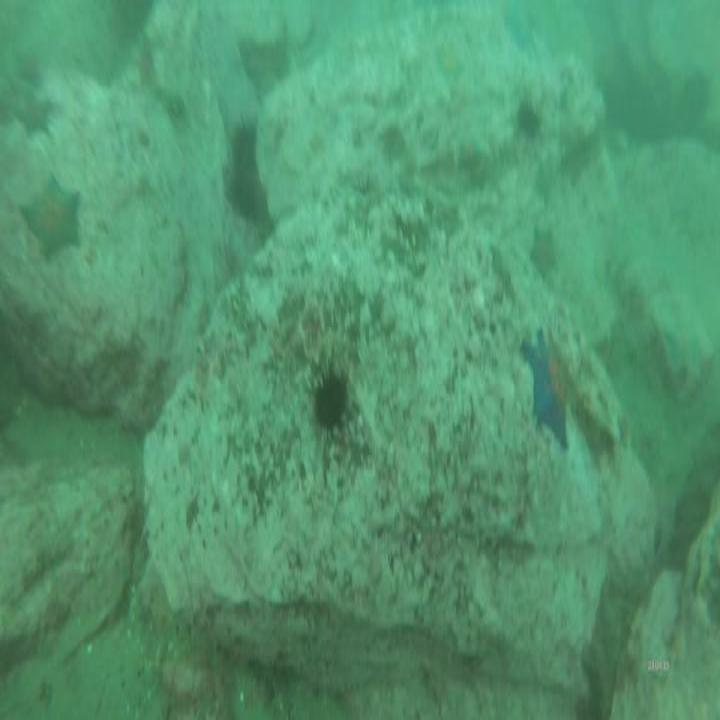echinus: (229, 123, 259, 213), (318, 372, 347, 423), (516, 98, 540, 140)
starfish: (522, 331, 569, 446), (23, 182, 81, 254), (18, 89, 50, 137), (504, 6, 530, 54), (532, 229, 556, 276), (458, 132, 481, 172)
